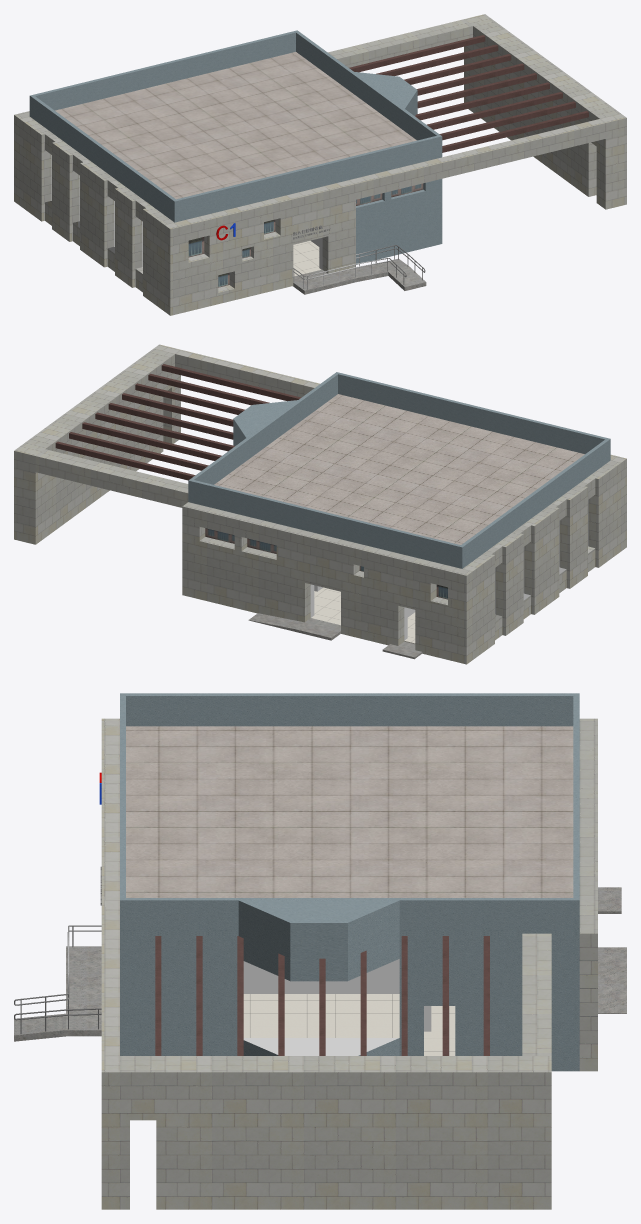
Rendered from ECP_Building structure.FBX.
3 views of the same model, one above another, from view 1: azimuth 30°, elevation 25°; view 2: azimuth 150°, elevation 25°; view 3: azimuth 270°, elevation 25° (orthographic). The views are drawn at different scales.
Visible parts, largest first — view 1: C1_ECP_OBJ27, C1_ECP_OBJ02, C1_ECP_OBJ01, C1_ECP_OBJ51, C1_ECP_OBJ28, C1_ECP_OBJ58, C1_ECP_OBJ50, C1_ECP_OBJ03; view 2: C1_ECP_OBJ27, C1_ECP_OBJ02, C1_ECP_OBJ01, C1_ECP_OBJ51, C1_ECP_OBJ28, C1_ECP_OBJ75, C1_ECP_OBJ03, C1_ECP_OBJ50; view 3: C1_ECP_OBJ27, C1_ECP_OBJ02, C1_ECP_OBJ28, C1_ECP_OBJ01, C1_ECP_OBJ03, C1_ECP_OBJ51, C1_ECP_OBJ58, C1_ECP_OBJ75.
Part boxes in pixels (x1,y1,x2,y2): C1_ECP_OBJ27: (14, 14, 626, 315); C1_ECP_OBJ02: (55, 52, 416, 199); C1_ECP_OBJ01: (29, 30, 442, 222); C1_ECP_OBJ51: (349, 35, 588, 152); C1_ECP_OBJ28: (51, 72, 442, 269); C1_ECP_OBJ58: (293, 259, 426, 294); C1_ECP_OBJ50: (188, 183, 423, 287); C1_ECP_OBJ03: (293, 240, 321, 276); C1_ECP_OBJ27: (14, 344, 626, 664); C1_ECP_OBJ02: (214, 394, 584, 544); C1_ECP_OBJ01: (188, 372, 610, 568); C1_ECP_OBJ51: (55, 364, 301, 480); C1_ECP_OBJ28: (233, 400, 588, 640); C1_ECP_OBJ75: (248, 613, 340, 640); C1_ECP_OBJ03: (311, 587, 415, 643); C1_ECP_OBJ50: (205, 528, 447, 599); C1_ECP_OBJ27: (101, 718, 597, 1209); C1_ECP_OBJ02: (126, 726, 573, 897); C1_ECP_OBJ28: (120, 900, 579, 1071); C1_ECP_OBJ01: (120, 693, 579, 933); C1_ECP_OBJ03: (243, 994, 455, 1055); C1_ECP_OBJ51: (155, 936, 489, 1055); C1_ECP_OBJ58: (14, 946, 101, 1041); C1_ECP_OBJ75: (598, 947, 626, 1013).
Bounding box in the file's own units: 2730 × 647 × 2001.
